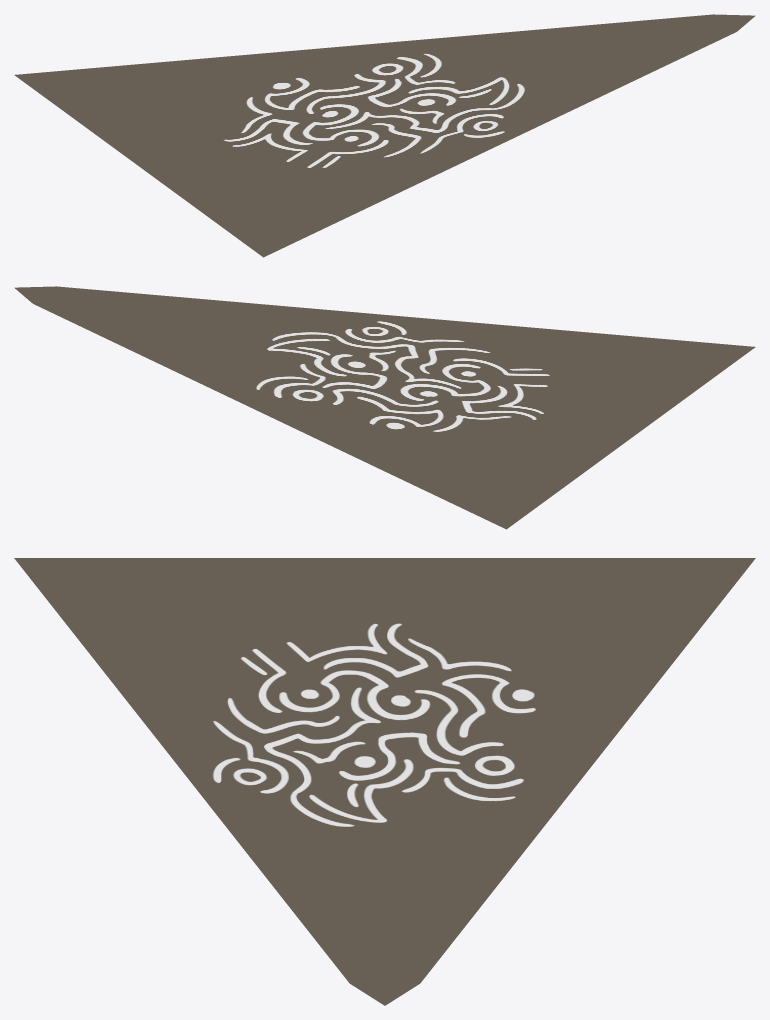
The model's file is Flag.fbx.
The picture shows the model from 3 angles, top to bottom: view 1: azimuth 30°, elevation 25°; view 2: azimuth 150°, elevation 25°; view 3: azimuth 270°, elevation 25°; orthographic projection. The views are drawn at different scales.
Visible parts, largest first — view 1: Plane001; view 2: Plane001; view 3: Plane001.
Part boxes in pixels (left/top/right/bottom): Plane001: left=14, top=14, right=755, bottom=257; Plane001: left=14, top=286, right=755, bottom=529; Plane001: left=14, top=558, right=755, bottom=1005.
Bounding box in the file's own units: 28.57 × 20 × 0.
1 material, 1 textured.
